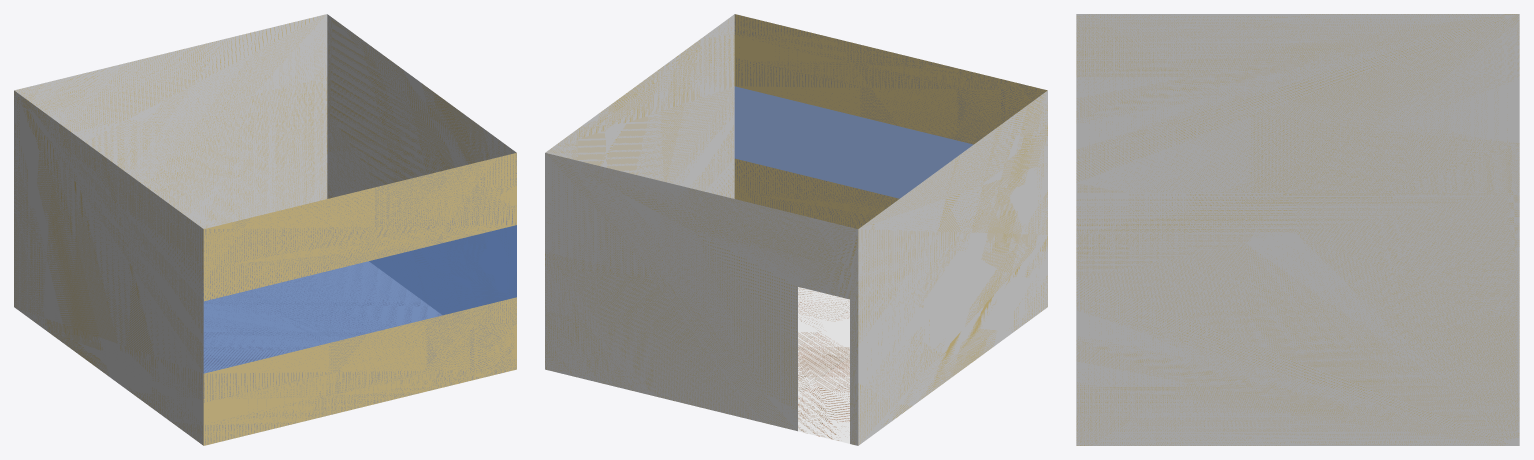
Rendered from DES011.obj.
3 renders of one model, left to right at view 1: azimuth 30°, elevation 25°; view 2: azimuth 150°, elevation 25°; view 3: azimuth 270°, elevation 25°, orthographic. The views are drawn at different scales.
Parts seen in each view (by area): view 1: Mesh1 DES011 Model; view 2: Mesh1 DES011 Model; view 3: Mesh1 DES011 Model.
Boxes of the visible parts, x1=… form: Mesh1 DES011 Model: x1=14, y1=14, x2=516, y2=445; Mesh1 DES011 Model: x1=545, y1=14, x2=1047, y2=445; Mesh1 DES011 Model: x1=1076, y1=14, x2=1519, y2=445.
Bounding box in the file's own units: 4.56 × 3.02 × 4.78.
5 materials, 1 textured.
